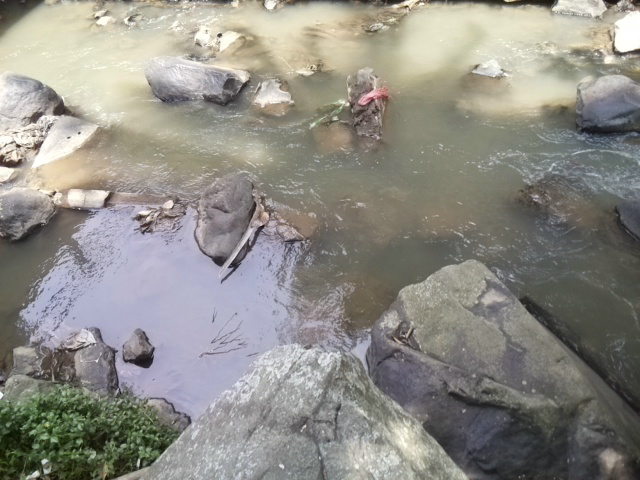Sampah_Plastik: (355, 83, 391, 106)
